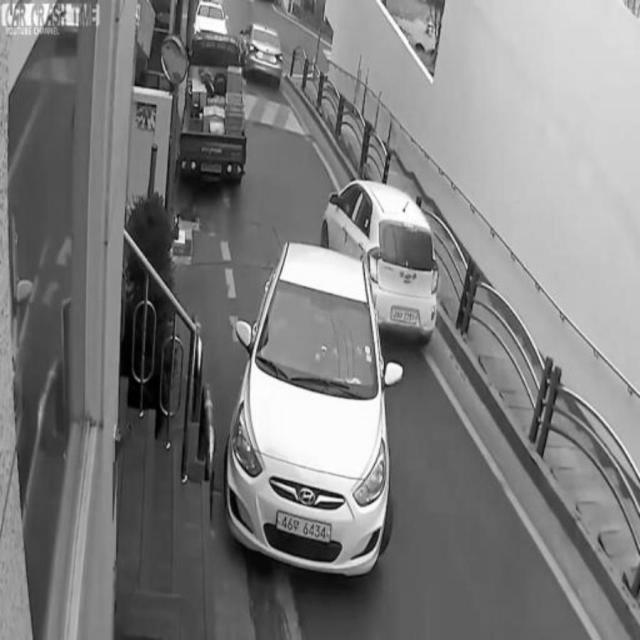vehicle: (227, 243, 393, 588), (329, 178, 437, 334), (179, 32, 246, 194), (241, 19, 285, 90)
